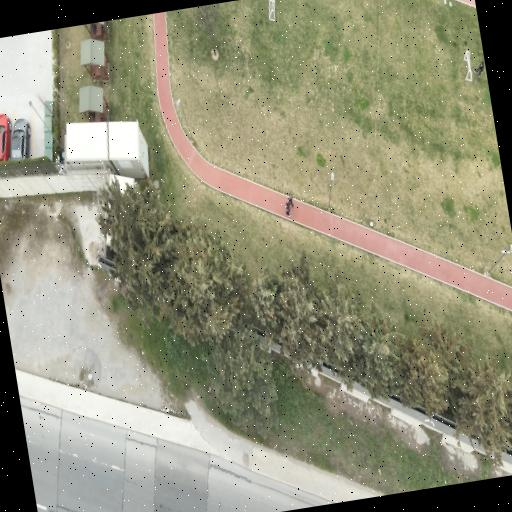car: (10, 119, 30, 160), (0, 114, 11, 161)
person: (472, 60, 486, 76), (285, 203, 290, 217), (90, 23, 96, 34), (288, 194, 293, 206)
